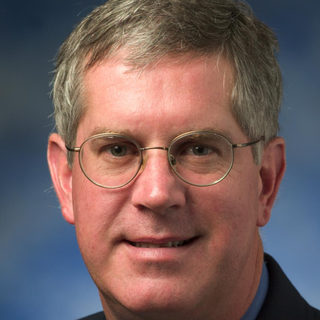eye: (174, 139, 221, 163), (97, 139, 140, 163)
